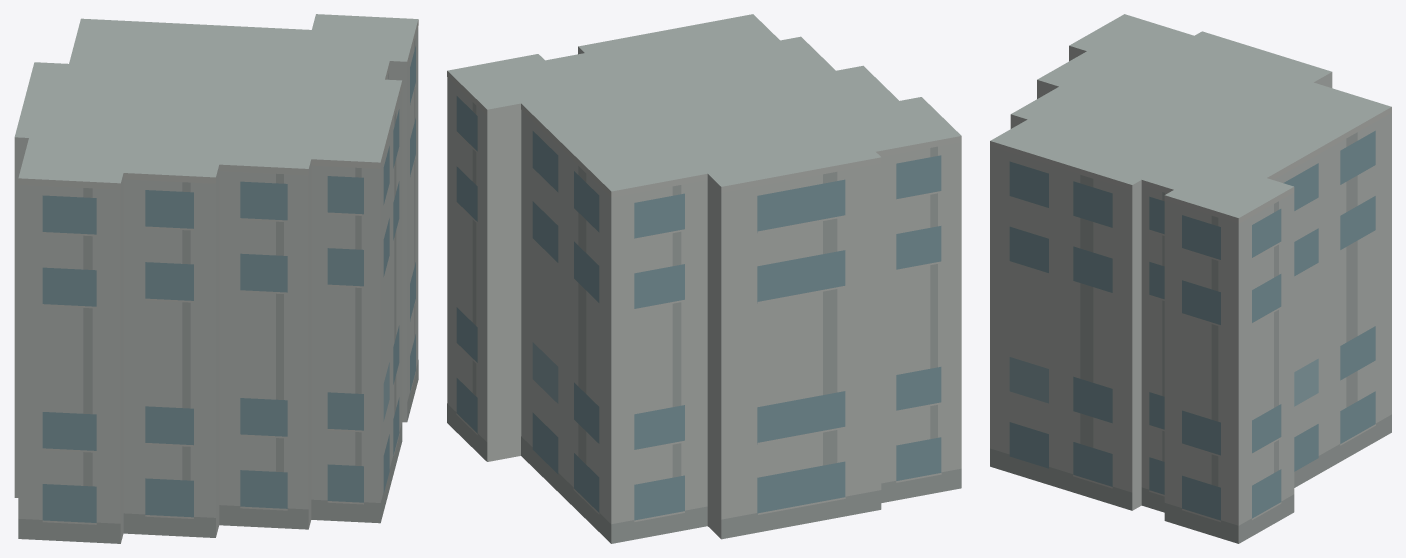
Rendered from survey-upis-32619784.glb.
The picture shows the model from 3 angles, left to right: view 1: azimuth 30°, elevation 25°; view 2: azimuth 150°, elevation 25°; view 3: azimuth 270°, elevation 25°; orthographic projection. The views are drawn at different scales.
Visible parts, largest first — view 1: survey-upis-32619784.tmp; view 2: survey-upis-32619784.tmp; view 3: survey-upis-32619784.tmp.
Part boxes in pixels (box(x1,y1,x2,y2)): survey-upis-32619784.tmp: box(14, 14, 418, 543); survey-upis-32619784.tmp: box(447, 14, 961, 543); survey-upis-32619784.tmp: box(990, 14, 1391, 543).
Size of the model in its own units: 18.43 by 13.7 by 15.32.
